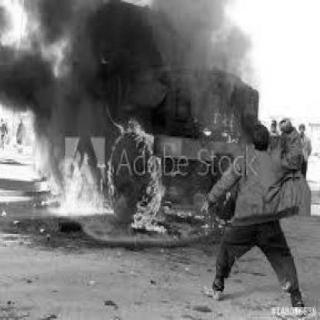Fire: (201, 124, 211, 138)
